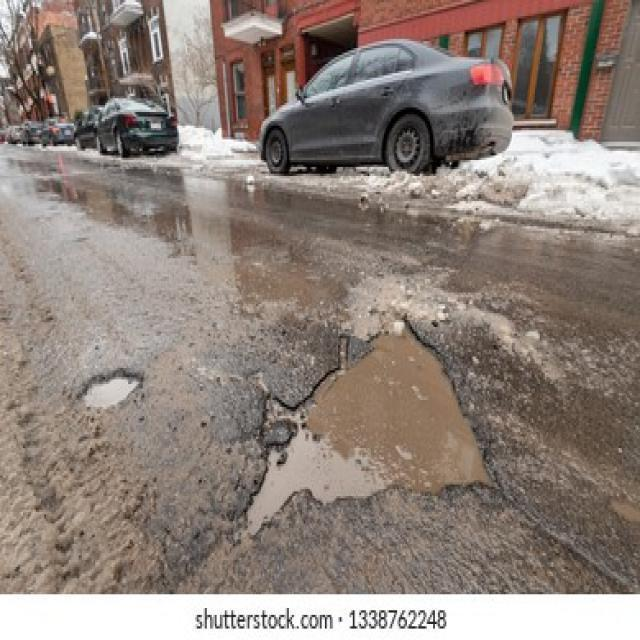Buraco: (237, 309, 508, 545), (73, 364, 148, 418)
